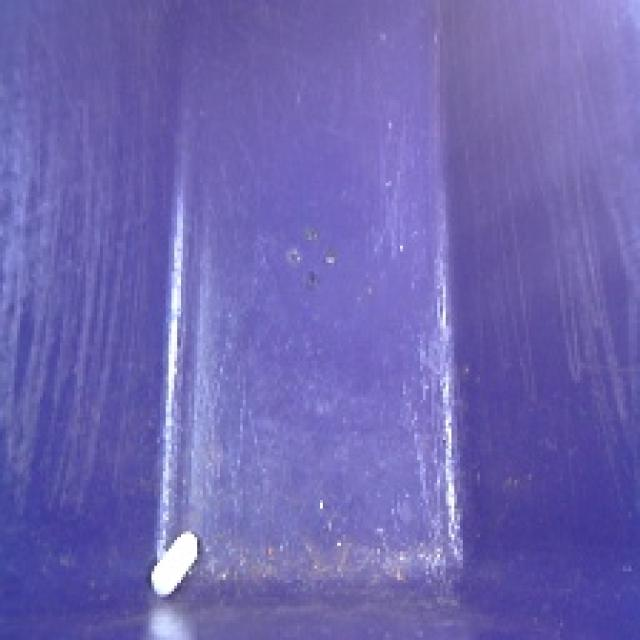small: (143, 522, 200, 604)
